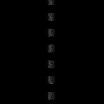generic_mod: (48, 27, 55, 36), (48, 43, 55, 52), (48, 59, 55, 68), (48, 90, 55, 99), (48, 12, 55, 20), (48, 75, 55, 83), (48, 0, 55, 5)
